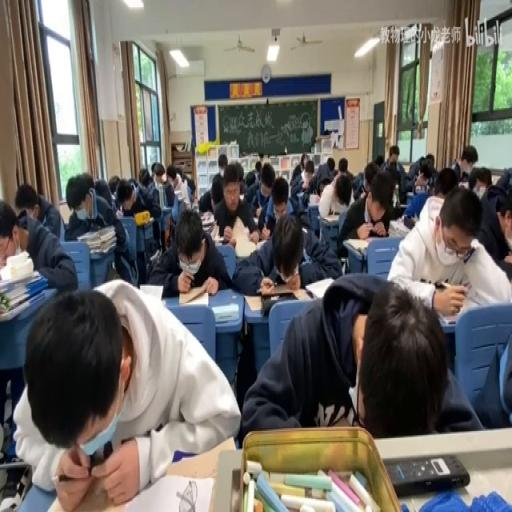calculator: (110, 474, 215, 509), (429, 279, 474, 321), (0, 288, 45, 322), (243, 286, 311, 308), (0, 265, 42, 294), (178, 282, 209, 304), (305, 276, 334, 297), (212, 302, 238, 322), (344, 238, 370, 253), (140, 282, 164, 298), (387, 218, 408, 236), (198, 209, 213, 225), (320, 212, 339, 222), (148, 248, 160, 263), (210, 222, 219, 240), (307, 193, 320, 205), (157, 182, 163, 208), (256, 239, 268, 250), (398, 202, 408, 212), (406, 189, 412, 202), (192, 200, 198, 212), (239, 193, 245, 202)
paper: (17, 276, 240, 506), (241, 272, 477, 440), (386, 182, 511, 312), (66, 169, 132, 289), (150, 206, 230, 296), (336, 168, 394, 260), (471, 322, 512, 426), (212, 161, 259, 243), (128, 168, 164, 256), (14, 180, 60, 242), (258, 174, 292, 238), (380, 144, 406, 199), (404, 154, 432, 198), (288, 158, 314, 205), (164, 161, 189, 205), (432, 166, 458, 196), (334, 176, 350, 205), (350, 169, 365, 199), (498, 212, 511, 245), (494, 169, 510, 195), (364, 162, 378, 188), (459, 148, 476, 169), (217, 150, 228, 180), (117, 192, 132, 212), (316, 178, 330, 198), (108, 175, 120, 196), (152, 166, 166, 184), (467, 168, 478, 190), (16, 206, 27, 228), (138, 166, 150, 185), (299, 152, 308, 171), (458, 171, 469, 186), (338, 156, 347, 174), (237, 162, 244, 184), (245, 171, 255, 186), (424, 154, 434, 168), (388, 162, 398, 176), (326, 155, 334, 172), (374, 155, 383, 168), (303, 169, 312, 182), (254, 160, 262, 174)
person: (384, 452, 468, 494), (0, 461, 32, 509)
